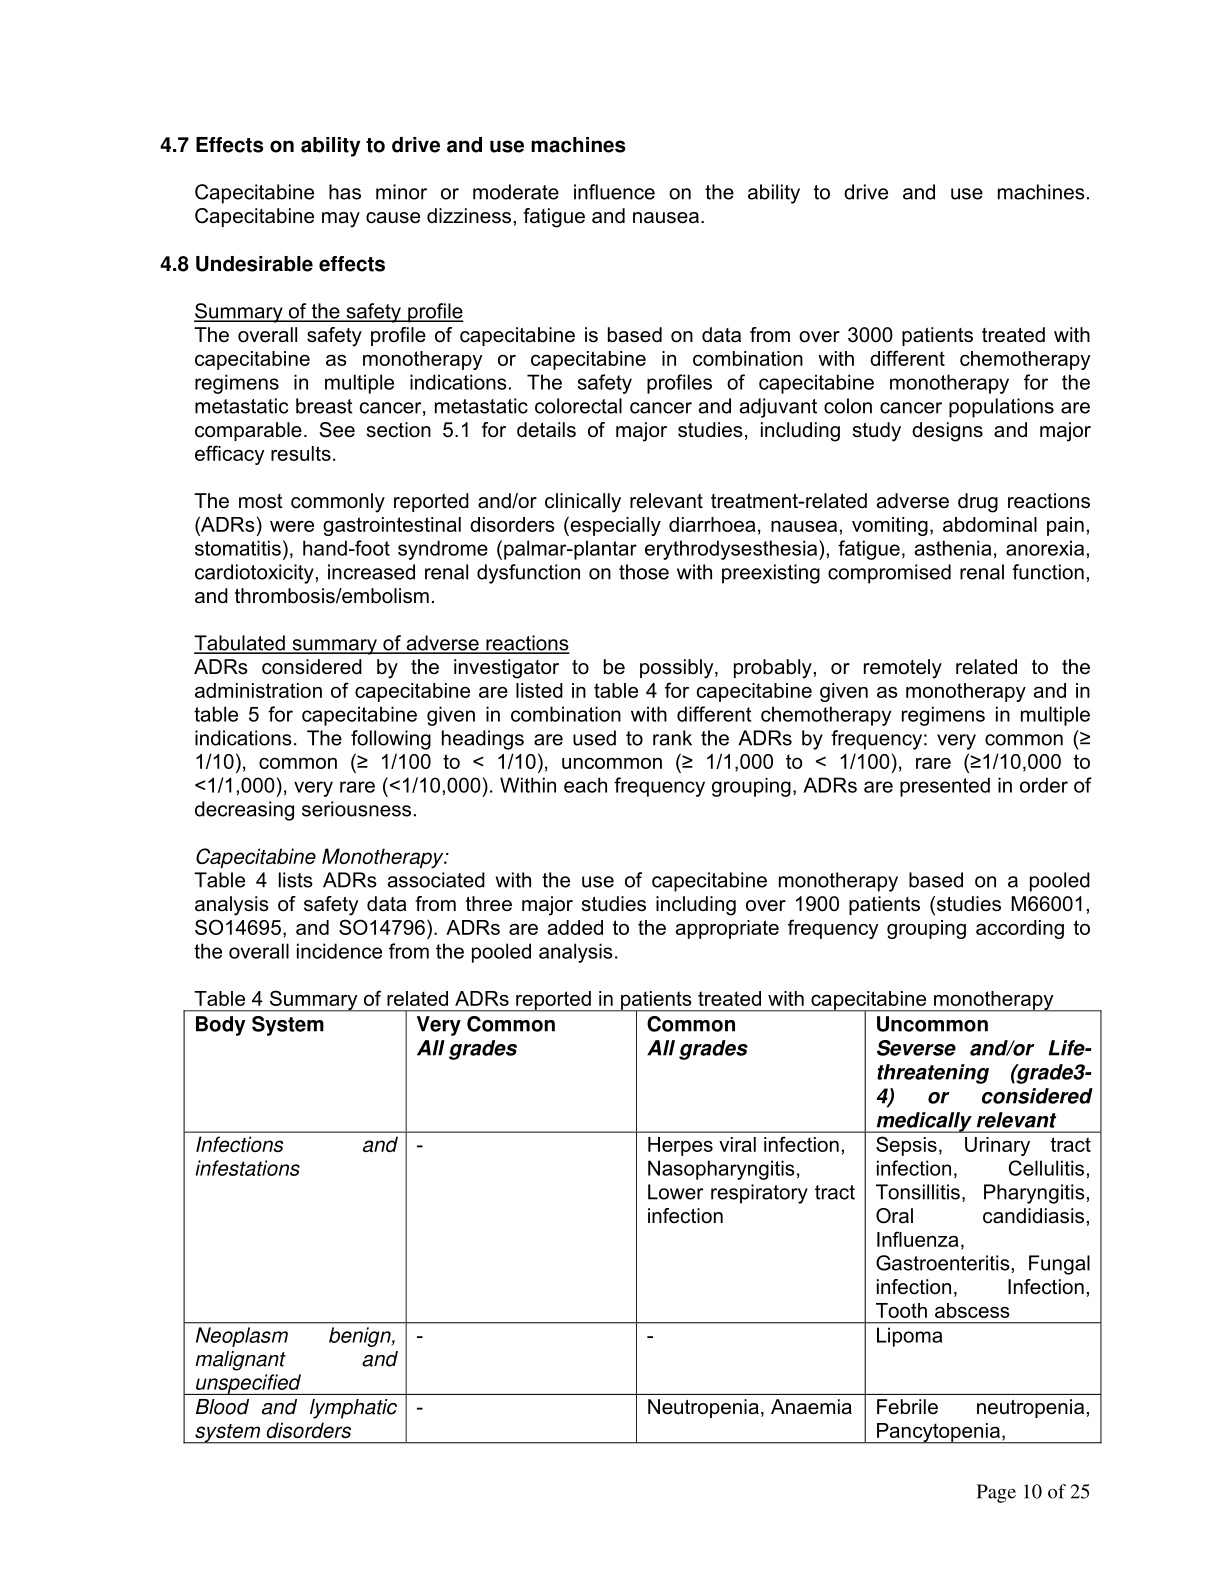full_lined: (183, 1011, 1102, 1444)
